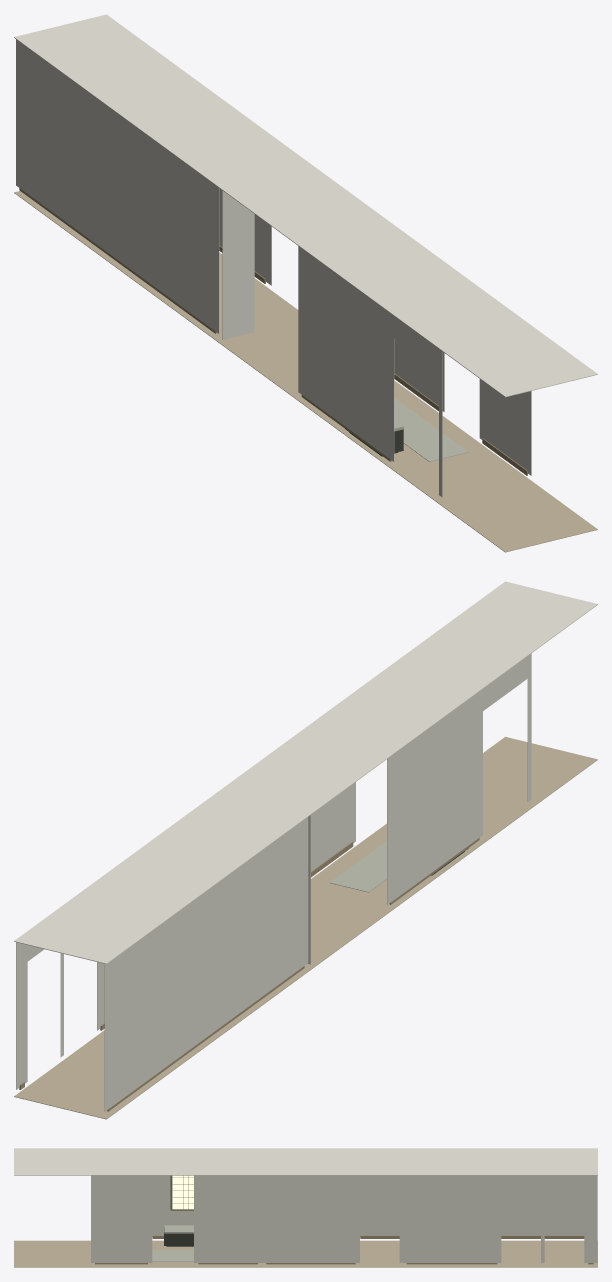
Rendered from corridor-2.glb.
3 renders of one model, top to bottom at view 1: azimuth 30°, elevation 25°; view 2: azimuth 150°, elevation 25°; view 3: azimuth 270°, elevation 25°, orthographic. The views are drawn at different scales.
Parts seen in each view (by area): view 1: DESIGN | Entrance coordinated ceiling, DESIGN | Entrance paired wall finish, DESIGN | Entrance floor finish, DESIGN | Entrance paired wall finish.003, DESIGN | Arch approach finish, DESIGN | Entrance paired wall finish.013, DESIGN | Entrance quiet runner, DESIGN | Entrance paired wall finish.012, DESIGN | Entrance paired wall finish.006, DESIGN | Entrance paired wall finish.002; view 2: DESIGN | Entrance coordinated ceiling, DESIGN | Entrance paired wall finish, DESIGN | Entrance floor finish, DESIGN | Entrance paired wall finish.003, DESIGN | Entrance paired wall finish.012, DESIGN | Entrance paired wall finish.005, DESIGN | Entrance quiet runner, DESIGN | Entrance paired wall finish.002, DESIGN | Entrance paired wall finish.001; view 3: DESIGN | Entrance coordinated ceiling, DESIGN | Entrance paired wall finish.006, DESIGN | Entrance paired wall finish.009, DESIGN | Entrance floor finish, DESIGN | Entrance paired wall finish.012, DESIGN | Entrance paired wall finish, DESIGN | Entrance paired wall finish.013, DESIGN | Entrance paired wall finish.003, DESIGN | Entrance paired wall finish.005, DESIGN | Kumiko opal diffuser, DESIGN | Entrance paired wall finish.007, DESIGN | Entrance paired wall finish.010 (+8 smaller).
Part boxes in pixels (x1,y1,x2,y2): DESIGN | Entrance coordinated ceiling: (14,14,597,397); DESIGN | Entrance paired wall finish: (16,39,219,333); DESIGN | Entrance floor finish: (14,191,597,552); DESIGN | Entrance paired wall finish.003: (298,246,394,461); DESIGN | Arch approach finish: (222,190,254,339); DESIGN | Entrance paired wall finish.013: (479,379,531,475); DESIGN | Entrance quiet runner: (394,398,468,461); DESIGN | Entrance paired wall finish.012: (394,339,444,411); DESIGN | Entrance paired wall finish.006: (219,188,268,283); DESIGN | Entrance paired wall finish.002: (394,316,438,370); DESIGN | Entrance coordinated ceiling: (14,581,597,964); DESIGN | Entrance paired wall finish: (104,817,308,1111); DESIGN | Entrance floor finish: (14,737,597,1119); DESIGN | Entrance paired wall finish.003: (387,689,482,904); DESIGN | Entrance paired wall finish.012: (311,782,355,871); DESIGN | Entrance paired wall finish.005: (16,942,27,1089); DESIGN | Entrance quiet runner: (329,841,386,892); DESIGN | Entrance paired wall finish.002: (483,656,527,710); DESIGN | Entrance paired wall finish.001: (527,653,531,801); DESIGN | Entrance coordinated ceiling: (14,1148,597,1175); DESIGN | Entrance paired wall finish.006: (402,1175,501,1262); DESIGN | Entrance paired wall finish.009: (262,1175,359,1262); DESIGN | Entrance floor finish: (14,1240,597,1267); DESIGN | Entrance paired wall finish.012: (194,1175,262,1262); DESIGN | Entrance paired wall finish: (360,1176,584,1236); DESIGN | Entrance paired wall finish.013: (91,1175,152,1262); DESIGN | Entrance paired wall finish.003: (152,1175,193,1236); DESIGN | Entrance paired wall finish.005: (584,1175,597,1262); DESIGN | Kumiko opal diffuser: (172,1175,193,1209); DESIGN | Entrance paired wall finish.007: (501,1175,540,1191); DESIGN | Entrance paired wall finish.010: (360,1175,399,1191).
Size of the model in its own units: 1.7 by 2.73 by 15.61.
